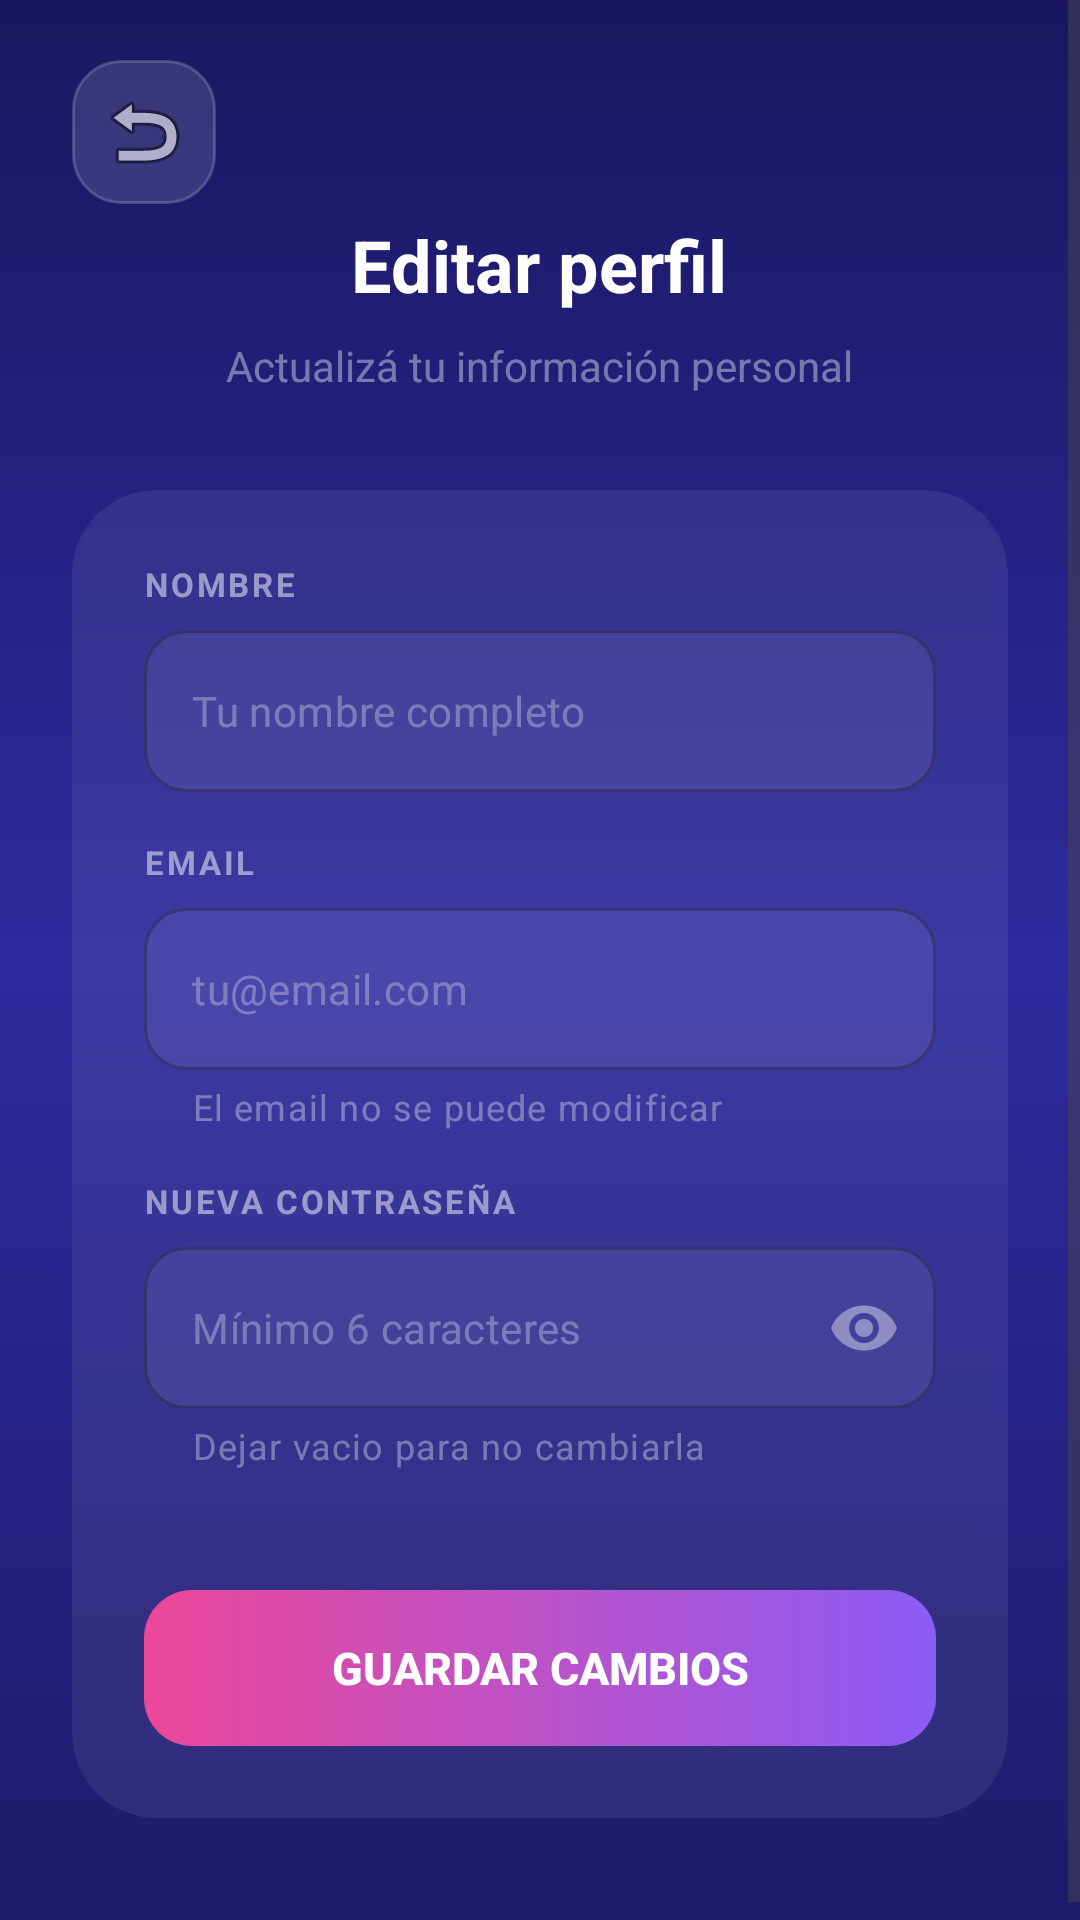

Named icons in this screenshot (1080 × 1920) and their bounding boxes, rect(x1, y1, x2, y2):
Volver atrás: rect(72, 60, 216, 204)
